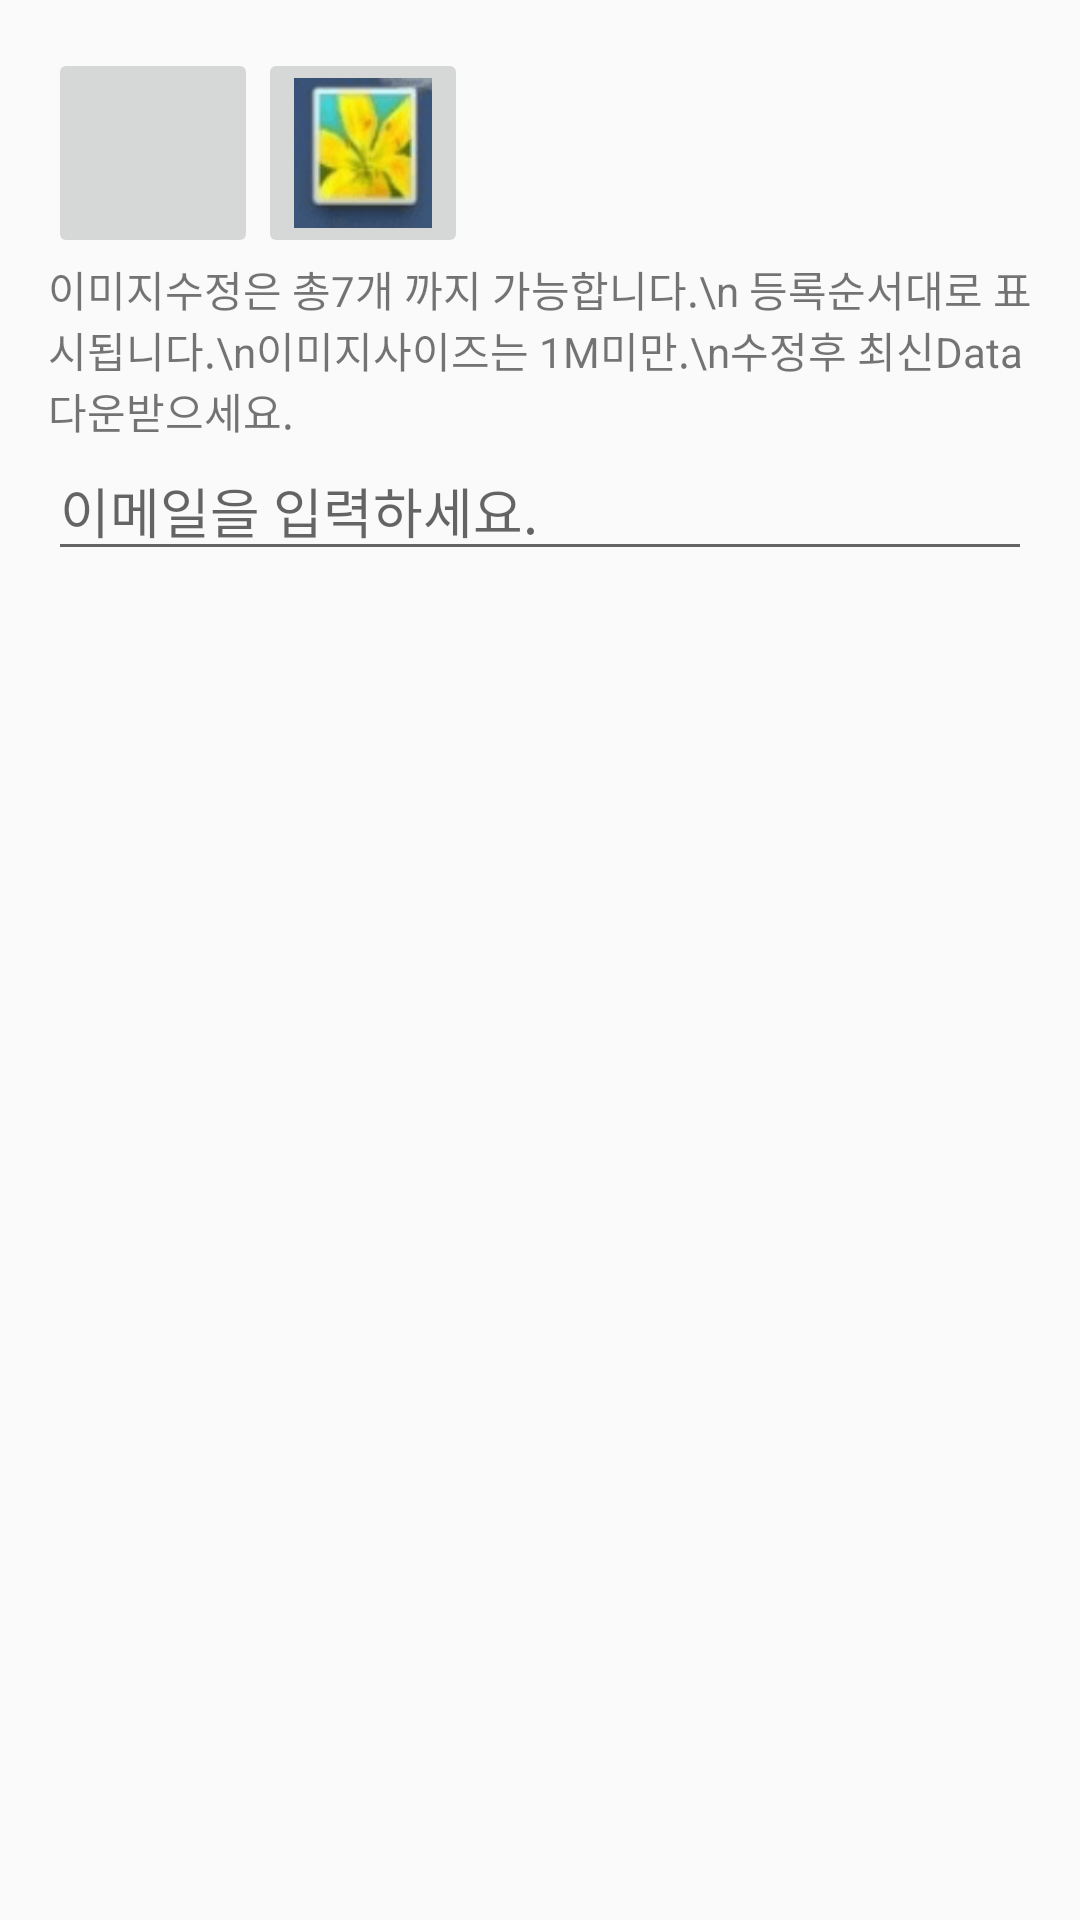

Icon bounding boxes for this 1080×1920 phone screenshot, format bbox(x1, y1, x2, y2):
galary: bbox(270, 66, 456, 240)
